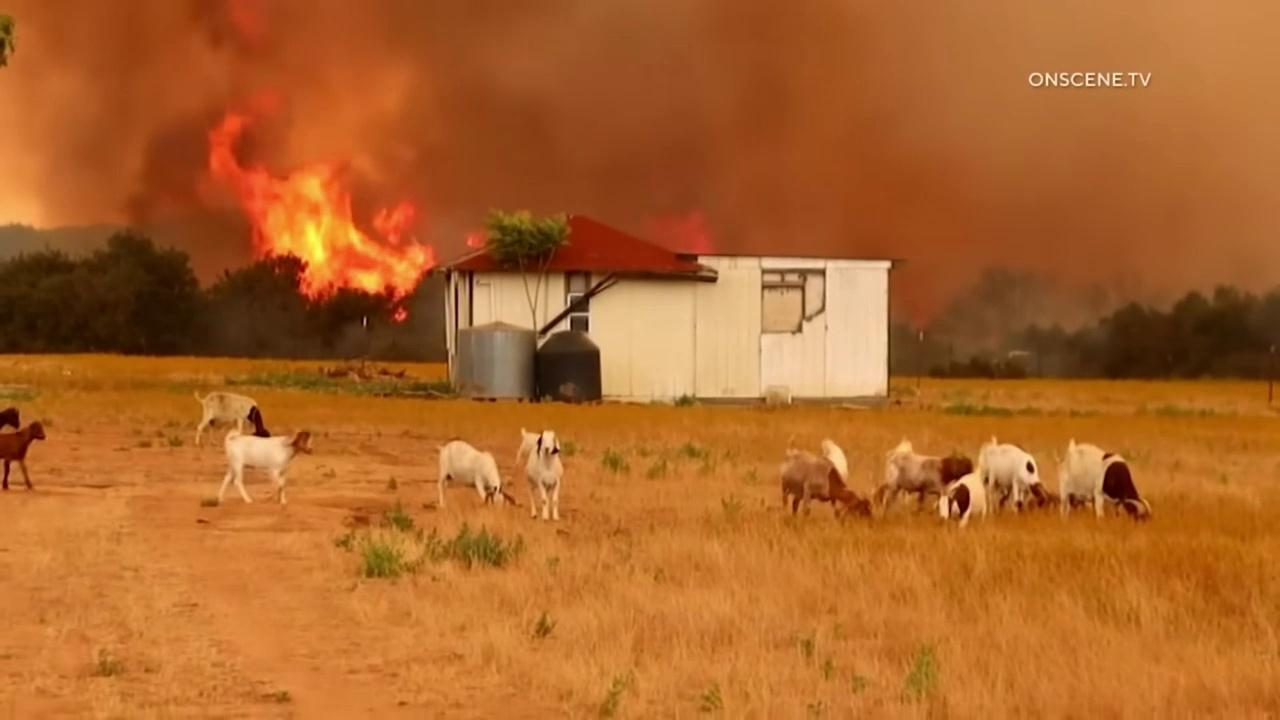fire: (205, 85, 440, 322), (464, 227, 490, 247)
smoke: (0, 0, 1280, 380)
